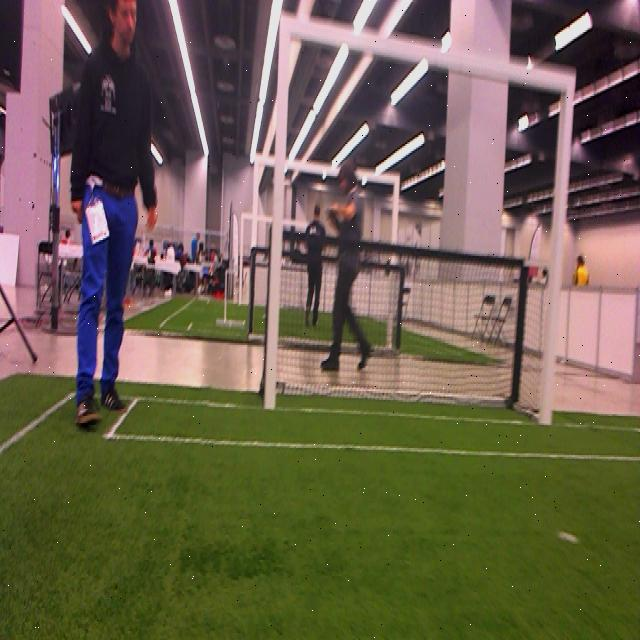goalpost: (539, 68, 575, 423), (264, 9, 293, 411)
